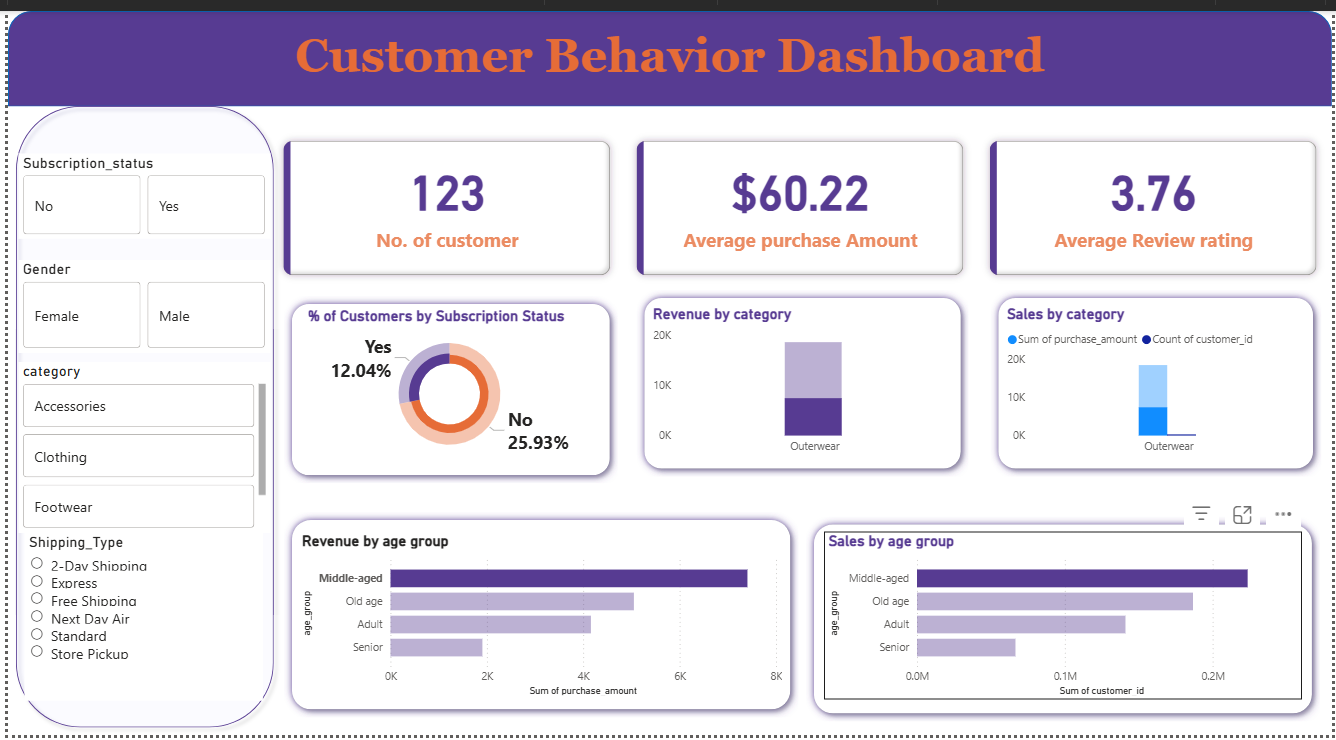

Layout of this report page (visuals, bound fields, positions):
{"tool":"powerbi","page":{"name":"Page 1","canvas":[1500,820],"ordinal":0},"visuals":[{"type":"cardVisual","fields":{"Data":["public customer.no of customer","public customer.Average purchase Amount","public customer.Average Review rating"]},"box":[296.3,131.3,1203.1,184.5],"z":0},{"type":"shape","box":[0,0,1499.4,108.2],"z":1000},{"type":"textbox","box":[0,16,1499.4,81.6],"z":2000},{"type":"shape","box":[312,322,378,212],"z":3000},{"type":"donutChart","title":"% of Customers by Subscription Status","fields":{"Category":["public customer.subscription_status"],"Y":["CountNonNull(public customer.customer_id)"]},"box":[334,334,330,178],"z":4000},{"type":"shape","box":[711.6,315.9,376.2,211.2],"z":5000},{"type":"shape","box":[1112.6,315.9,374.4,211.2],"z":6000},{"type":"clusteredColumnChart","title":"Revenue by category","fields":{"Y":["Sum(public customer.purchase_amount)"],"Category":["public customer.category"]},"box":[725.8,333.6,346,177.4],"z":7000},{"type":"clusteredColumnChart","title":"Sales by category","fields":{"Y":["Sum(public customer.purchase_amount)","CountNonNull(public customer.customer_id)"],"Category":["public customer.category"]},"box":[1126.8,333.6,346,177.4],"z":8000},{"type":"shape","box":[0,98,310,722],"z":9000},{"type":"advancedSlicerVisual","fields":{"Values":["public customer.subscription_status"]},"box":[11.7,161.7,285,96.7],"z":10000},{"type":"advancedSlicerVisual","fields":{"Values":["public customer.gender"]},"box":[11.7,281.7,285,105],"z":11000},{"type":"advancedSlicerVisual","fields":{"Values":["public customer.category"]},"box":[11.7,398.3,285,193.3],"z":12000},{"type":"listSlicer","fields":{"Values":["public customer.shipping_type"]},"box":[18,592,270,190],"z":13000},{"type":"clusteredBarChart","title":"Revenue by age group","fields":{"Y":["Sum(public customer.purchase_amount)"],"Category":["public customer.age_group"]},"box":[310,592,554,190],"z":14000},{"type":"shape","box":[298,572,584,232],"z":15000},{"type":"shape","box":[904,572,582,232],"z":16000},{"type":"clusteredBarChart","title":"Sales by age group","fields":{"Y":["Sum(public customer.customer_id)"],"Category":["public customer.age_group"]},"box":[924,594,542,190],"z":17000}]}

Visuals, with their boxes in screenshot pixels (x1, y1, x2, y2), scaled from the page's 1500x820 canvas onto the 1336x740 screenshot:
cardVisual - public customer.no of customer x public customer.Average purchase Amount: bbox=(264, 118, 1335, 285)
shape: bbox=(0, 0, 1335, 98)
textbox: bbox=(0, 14, 1335, 88)
shape: bbox=(278, 291, 615, 482)
"% of Customers by Subscription Status" donutChart: bbox=(297, 301, 591, 462)
shape: bbox=(634, 285, 969, 476)
shape: bbox=(991, 285, 1324, 476)
"Revenue by category" clusteredColumnChart: bbox=(646, 301, 955, 461)
"Sales by category" clusteredColumnChart: bbox=(1004, 301, 1312, 461)
shape: bbox=(0, 88, 276, 739)
advancedSlicerVisual - public customer.subscription_status: bbox=(10, 146, 264, 233)
advancedSlicerVisual - public customer.gender: bbox=(10, 254, 264, 349)
advancedSlicerVisual - public customer.category: bbox=(10, 359, 264, 534)
listSlicer - public customer.shipping_type: bbox=(16, 534, 257, 706)
"Revenue by age group" clusteredBarChart: bbox=(276, 534, 770, 706)
shape: bbox=(265, 516, 786, 726)
shape: bbox=(805, 516, 1324, 726)
"Sales by age group" clusteredBarChart: bbox=(823, 536, 1306, 708)
